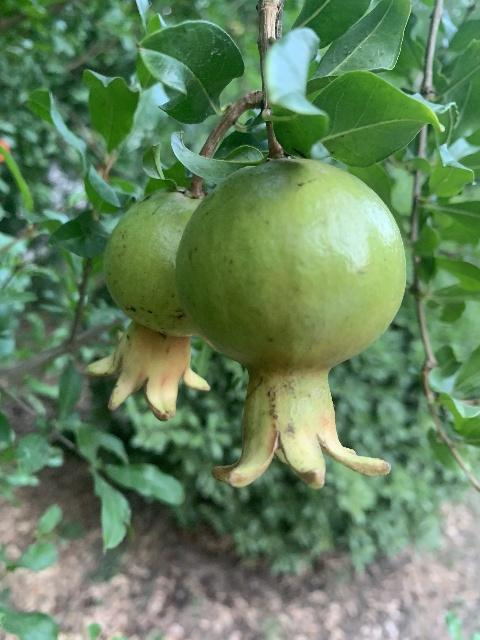mid-growth: (175, 159, 406, 490), (82, 188, 210, 420)
